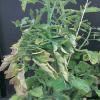Tomato leaf yellow virus: (32, 52, 60, 80), (84, 47, 99, 67), (73, 75, 89, 93), (52, 76, 67, 93), (80, 5, 99, 15), (29, 87, 45, 98)
